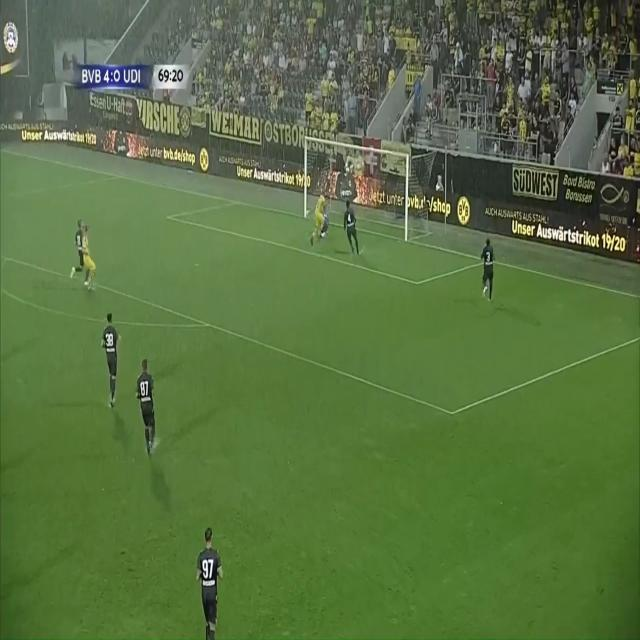player: (192, 514, 228, 640), (134, 358, 168, 463), (96, 306, 124, 412), (340, 195, 364, 268), (477, 232, 500, 308), (70, 218, 92, 291), (83, 226, 102, 293), (310, 190, 326, 245)
